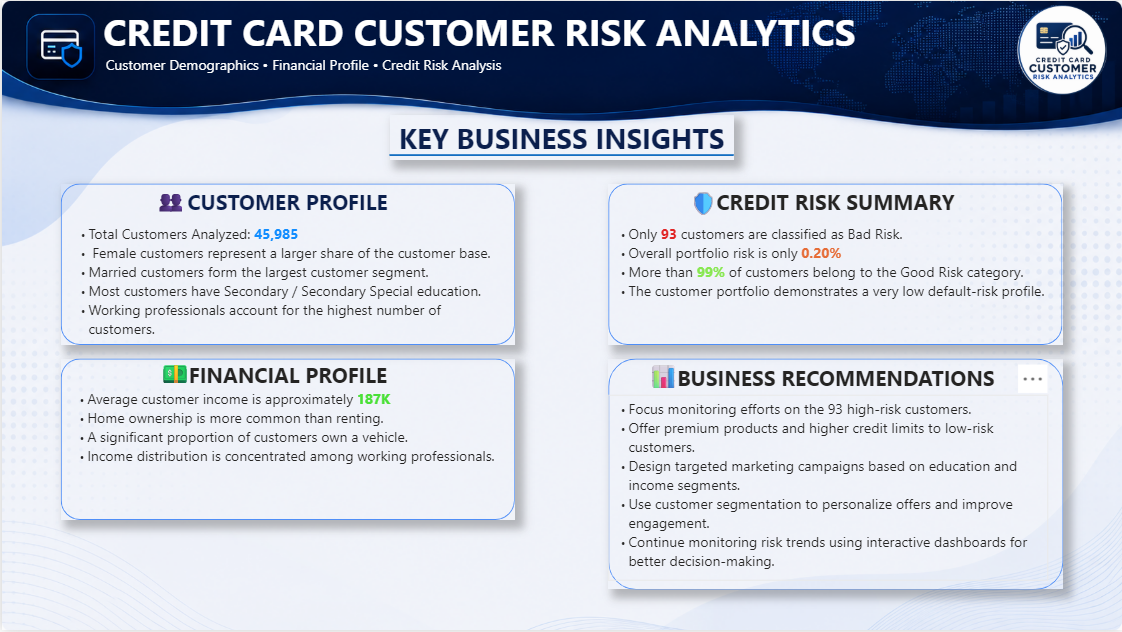

The dashboard page shown, as its layout file describes it:
{"tool":"powerbi","page":{"name":"Key Insights","canvas":[1280,720],"ordinal":1},"visuals":[{"type":"shape","box":[66.7,208.9,518.9,184.4],"z":0},{"type":"textbox","box":[87.8,0,1192.2,95.6],"z":1000},{"type":"image","box":[1142.2,0,137.8,112.2],"z":2000},{"type":"textbox","box":[443.3,130,393.3,52.2],"z":3000},{"type":"textbox","box":[188.9,208.9,275.6,48.9],"z":4000},{"type":"shape","box":[443.3,170,393.3,12.2],"z":5000},{"type":"textbox","box":[75.6,250,503.3,142.2],"z":6000},{"type":"shape","box":[692.2,208.9,518.9,184.4],"z":7000},{"type":"textbox","box":[781.1,208.9,342.2,48.9],"z":8000},{"type":"textbox","box":[692.2,250,518.9,105.6],"z":9000},{"type":"shape","box":[66.7,408.9,518.9,184.4],"z":10000},{"type":"shape","box":[692.9,408.6,520,264.3],"z":11000},{"type":"textbox","box":[738.9,391.1,428.9,70],"z":12000},{"type":"textbox","box":[155.6,405.6,342.2,48.9],"z":13000},{"type":"textbox","box":[692.2,450,503.3,213.3],"z":14000},{"type":"textbox","box":[74.4,438.9,496.7,124.4],"z":15000},{"type":"textbox","box":[170,202.2,43.3,47.8],"z":16000},{"type":"textbox","box":[174.4,400,43.3,47.8],"z":17000},{"type":"textbox","box":[778.9,206.7,43.3,47.8],"z":18000},{"type":"textbox","box":[732.2,405.6,47.8,47.8],"z":19000}]}

Visuals, with their boxes in screenshot pixels (x1, y1, x2, y2), scaled from the page's 1280x720 canvas onto the 1122x632 screenshot:
shape: detection(58, 183, 513, 345)
textbox: detection(77, 0, 1121, 84)
image: detection(1001, 0, 1121, 98)
textbox: detection(389, 114, 733, 160)
textbox: detection(166, 183, 407, 226)
shape: detection(389, 149, 733, 160)
textbox: detection(66, 219, 507, 344)
shape: detection(607, 183, 1062, 345)
textbox: detection(685, 183, 985, 226)
textbox: detection(607, 219, 1062, 312)
shape: detection(58, 359, 513, 521)
shape: detection(607, 359, 1063, 591)
textbox: detection(648, 343, 1024, 405)
textbox: detection(136, 356, 436, 399)
textbox: detection(607, 395, 1048, 582)
textbox: detection(65, 385, 501, 494)
textbox: detection(149, 177, 187, 219)
textbox: detection(153, 351, 191, 393)
textbox: detection(683, 181, 721, 223)
textbox: detection(642, 356, 684, 398)
